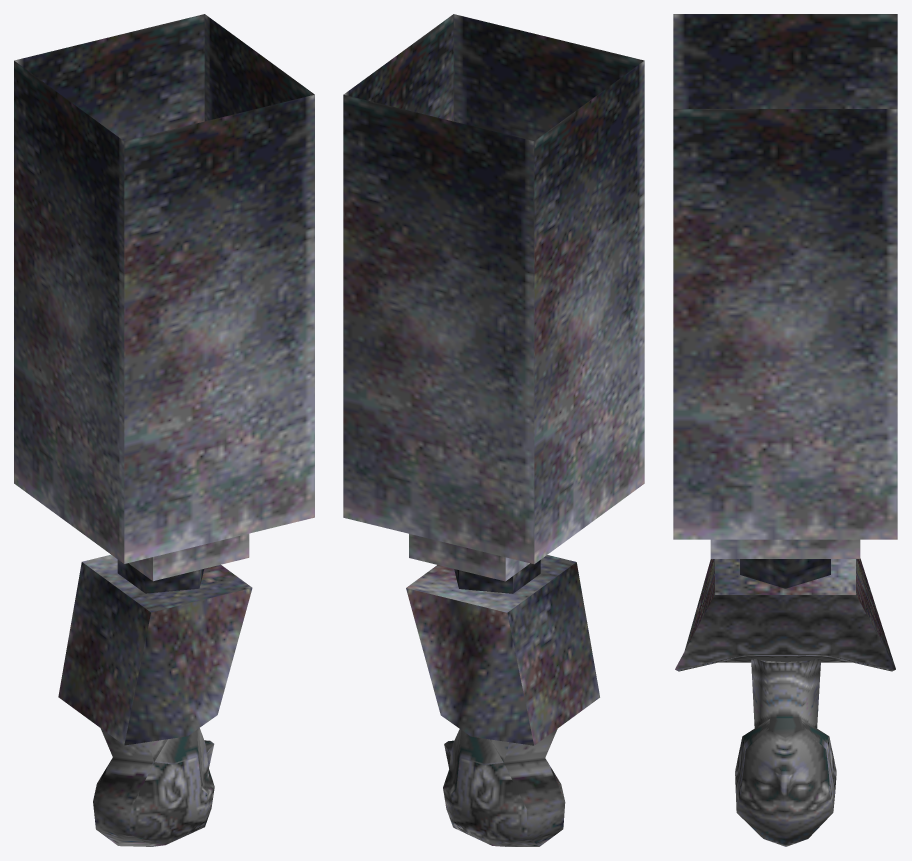
File: ROOM10C0_model01_emdui.obj
3 renders of one model, left to right at view 1: azimuth 30°, elevation 25°; view 2: azimuth 150°, elevation 25°; view 3: azimuth 270°, elevation 25°, orthographic.
Parts seen in each view (by area): view 1: part_00; view 2: part_00; view 3: part_00.
Part boxes in pixels (x1,y1,x2,y2): part_00: (14,14,314,846); part_00: (343,14,644,846); part_00: (673,14,897,846).
Size of the model in its own units: 0.858 by 3.29 by 0.858.
Materials: 1 (1 with a texture image).
